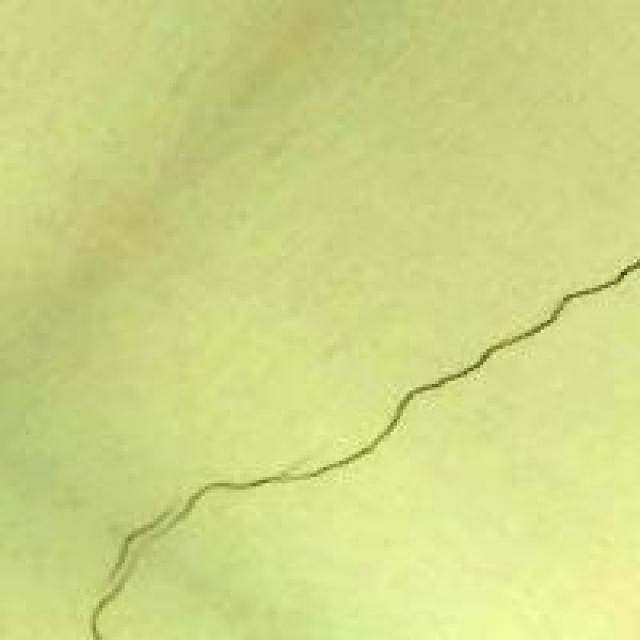Crack: (80, 243, 637, 637)
